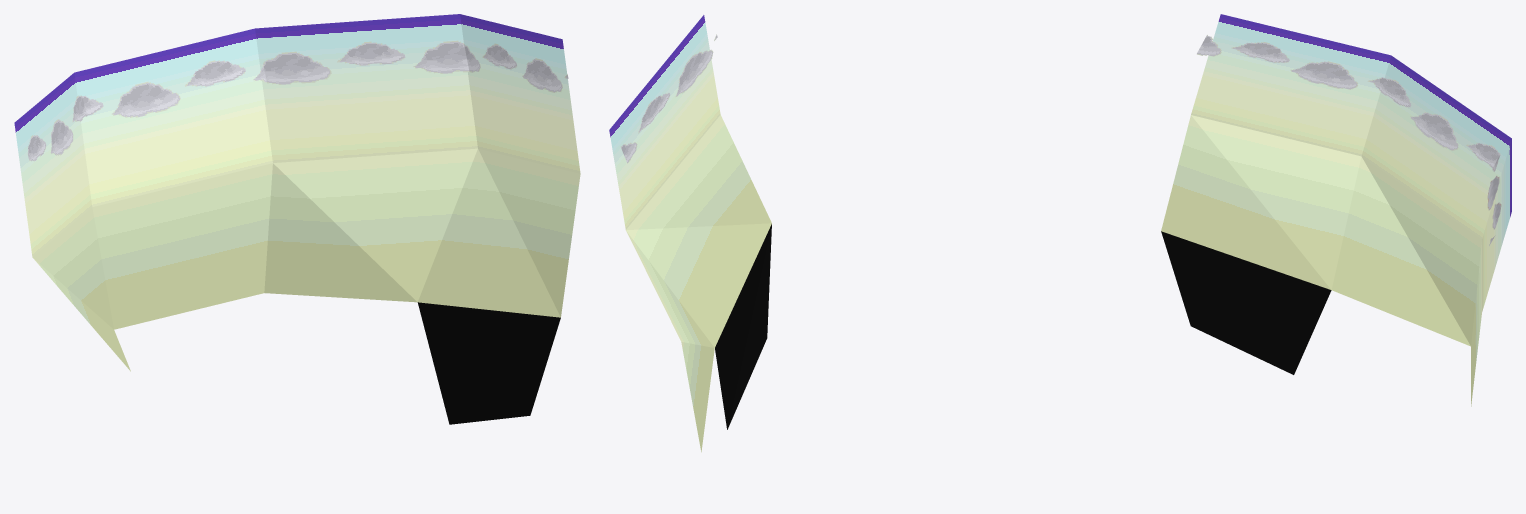
3 renders of one model, left to right at view 1: azimuth 30°, elevation 25°; view 2: azimuth 150°, elevation 25°; view 3: azimuth 270°, elevation 25°, orthographic. The views are drawn at different scales.
Parts seen in each view (by area): view 1: kk_sky; view 2: kk_sky; view 3: kk_sky.
Boxes of the visible parts, x1,y1,x2,y2 form: kk_sky: (14,14,580,424); kk_sky: (609,15,771,452); kk_sky: (1161,14,1511,406).
Size of the model in its own units: 37 by 31.81 by 30.35.
Materials: 2 (2 with a texture image).
